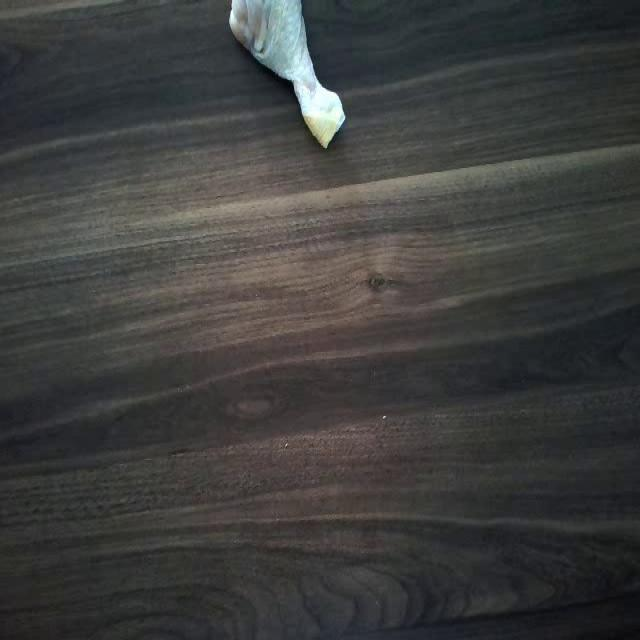leg: (226, 0, 347, 144)
